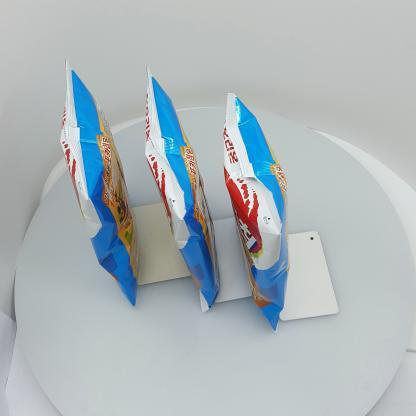Plastic Packaging: (61, 58, 143, 312), (144, 69, 226, 321), (223, 90, 298, 317)
